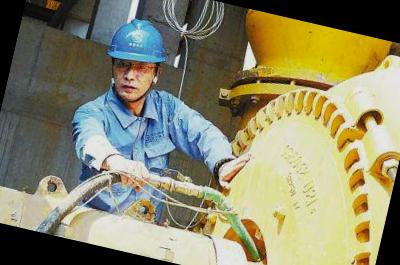person: (46, 1, 267, 238)
